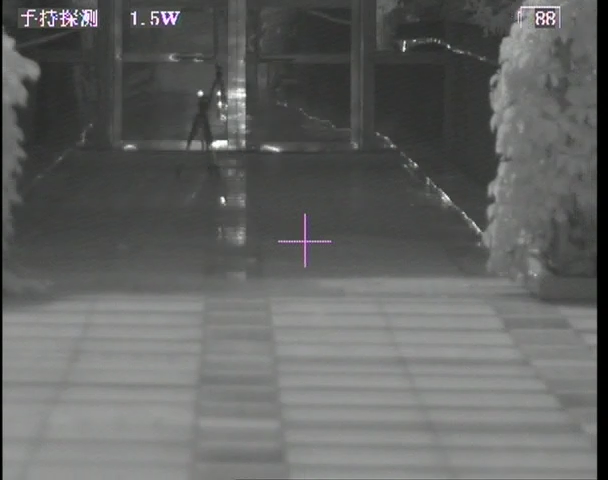my: (195, 89, 204, 98)
